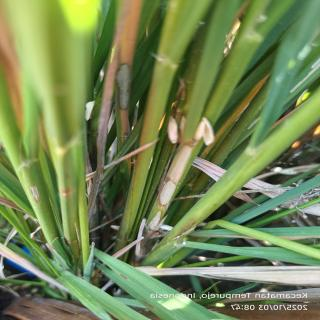Busuk-Pelepah: (139, 236, 155, 261)
